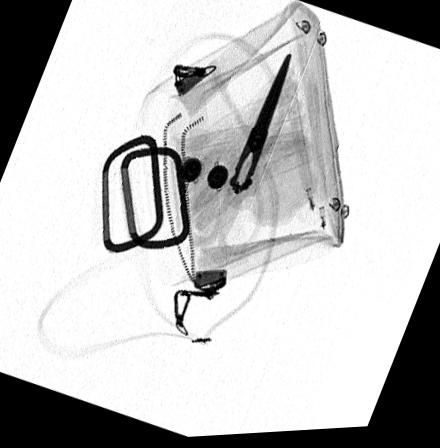Scissors: (182, 57, 291, 259)
